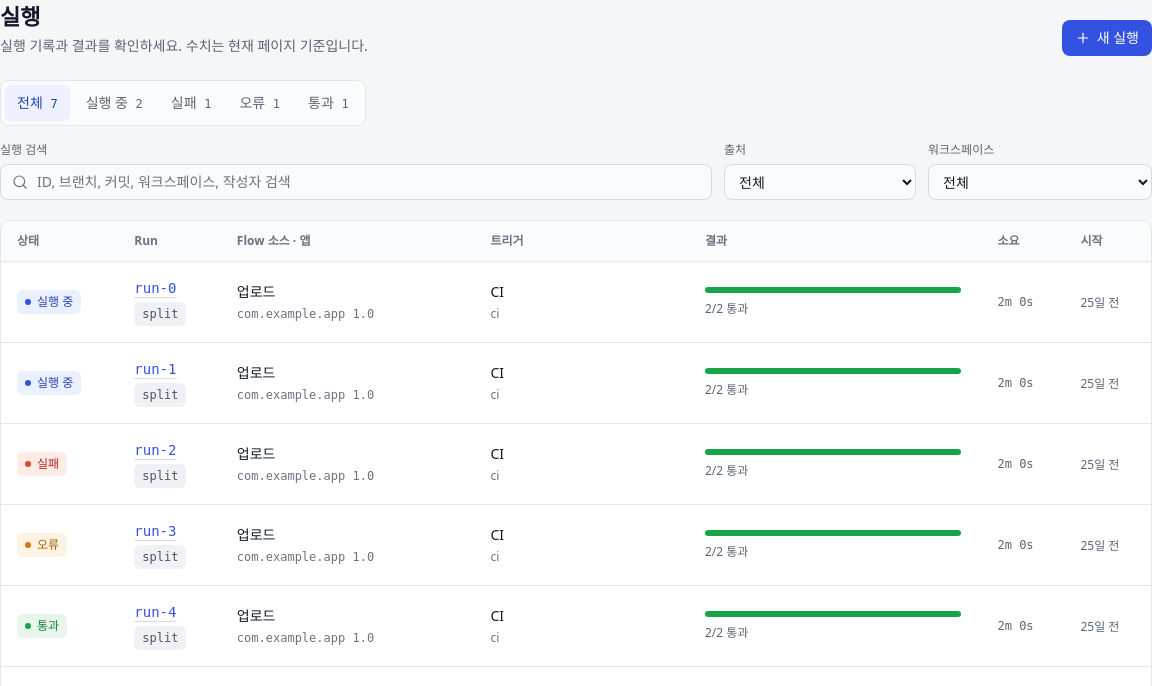
Test: status chips show loaded-page counts and request the selected status
Check: the radio button labelled "전체 7" is checked, box [5,85,70,121]
Check: the radio button labelled "실패 1" is shown, box [159,85,223,121]
Click the radio button labelled "실행 중 2" at [114, 103], box [74,85,155,121]
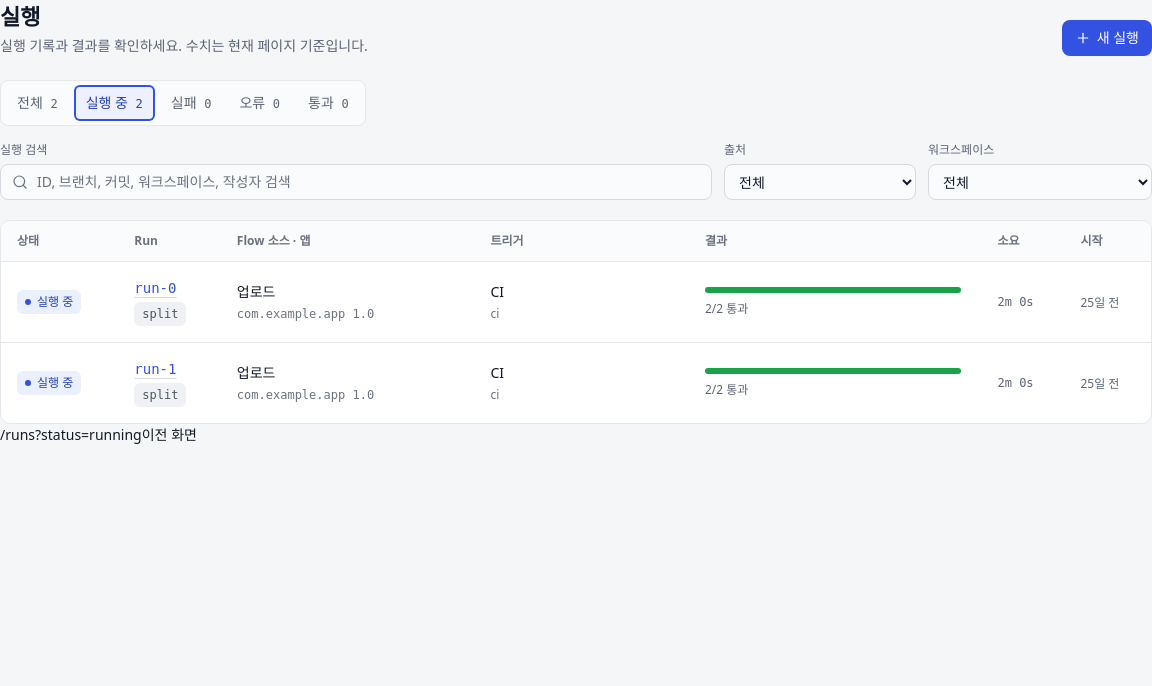
Check: the number of rows is 3, box [1,221,1151,262]; [1,262,1151,342]; [1,342,1151,423]
Check: the radio button labelled "전체 2" is shown, box [5,85,70,121]
